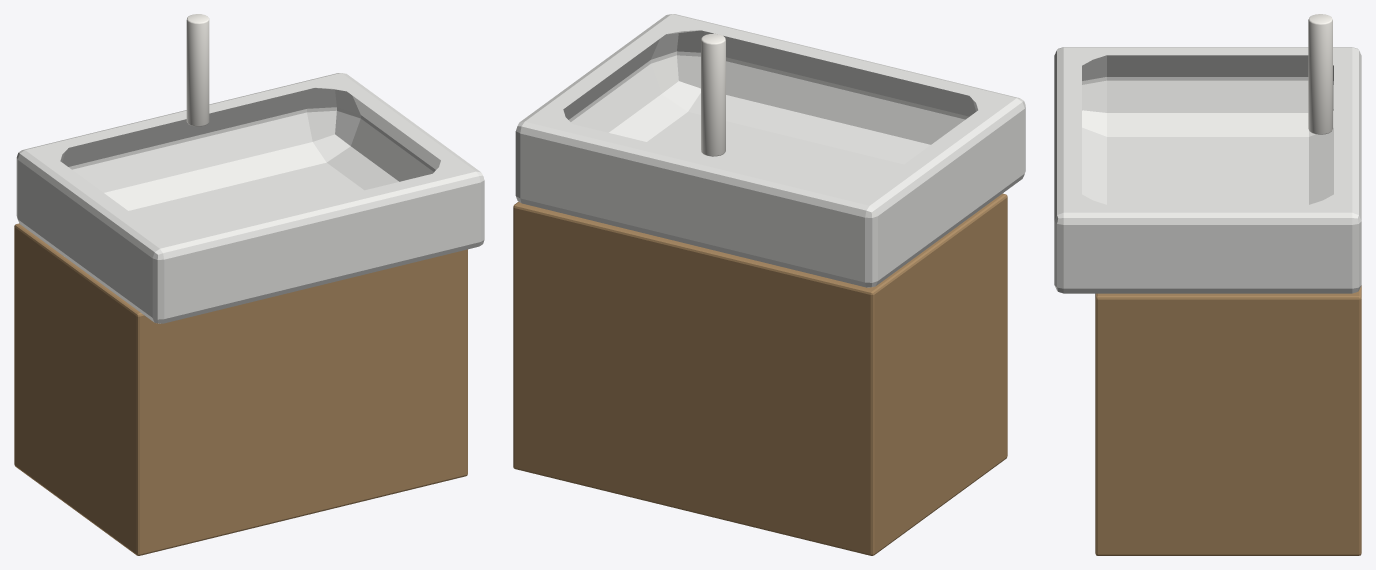
File: waschbecken.glb
3 renders of one model, left to right at view 1: azimuth 30°, elevation 25°; view 2: azimuth 150°, elevation 25°; view 3: azimuth 270°, elevation 25°, orthographic. The views are drawn at different scales.
Visible parts, largest first — view 1: Unterschrank, Becken, Armatur; view 2: Unterschrank, Becken, Armatur; view 3: Becken, Unterschrank, Armatur.
Boxes of the visible parts, x1,y1,x2,y2 form: Unterschrank: [14, 223, 467, 555]; Becken: [16, 73, 484, 323]; Armatur: [186, 14, 209, 126]; Unterschrank: [513, 193, 1007, 555]; Becken: [515, 14, 1025, 287]; Armatur: [701, 33, 725, 156]; Becken: [1054, 47, 1361, 293]; Unterschrank: [1095, 285, 1361, 555]; Armatur: [1308, 14, 1332, 134].
Size of the model in its own units: 0.6 by 0.73 by 0.45.
